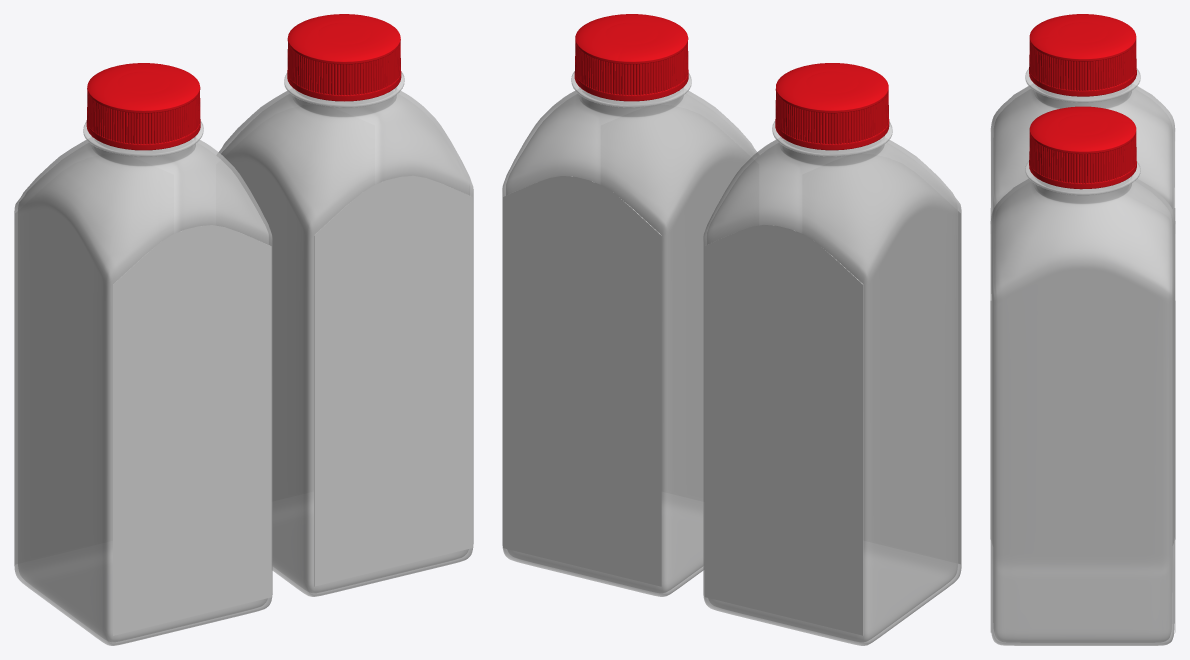
Rendered from Soft Drinks A-1.glb.
3 renders of one model, left to right at view 1: azimuth 30°, elevation 25°; view 2: azimuth 150°, elevation 25°; view 3: azimuth 270°, elevation 25°, orthographic. The views are drawn at different scales.
Parts seen in each view (by area): view 1: Bottle_BottlePlastic_0.001, Plane, Plane.002, Bottle_BottlePlastic_0.002, ManiPiece_Bottle2CapArnold_0.001, ManiPiece_Bottle2CapArnold_0, pCube117_Bottle2CapArnold_0, pCube117_Bottle2CapArnold_0.001; view 2: Plane, Bottle_BottlePlastic_0.001, Plane.002, Bottle_BottlePlastic_0.002, ManiPiece_Bottle2CapArnold_0, ManiPiece_Bottle2CapArnold_0.001, pCube117_Bottle2CapArnold_0.001, pCube117_Bottle2CapArnold_0; view 3: Bottle_BottlePlastic_0.002, Bottle_BottlePlastic_0.001, ManiPiece_Bottle2CapArnold_0, ManiPiece_Bottle2CapArnold_0.001, pCube117_Bottle2CapArnold_0, pCube117_Bottle2CapArnold_0.001, Plane.002, Plane.
Part boxes in pixels (bbox=[...]): Bottle_BottlePlastic_0.001: bbox=[14, 121, 272, 645]; Plane: bbox=[16, 212, 271, 635]; Plane.002: bbox=[314, 175, 472, 586]; Bottle_BottlePlastic_0.002: bbox=[217, 71, 473, 596]; ManiPiece_Bottle2CapArnold_0.001: bbox=[287, 14, 401, 101]; ManiPiece_Bottle2CapArnold_0: bbox=[86, 63, 200, 150]; pCube117_Bottle2CapArnold_0: bbox=[87, 91, 200, 144]; pCube117_Bottle2CapArnold_0.001: bbox=[287, 42, 400, 95]; Plane: bbox=[704, 211, 960, 635]; Bottle_BottlePlastic_0.001: bbox=[703, 121, 961, 645]; Plane.002: bbox=[503, 176, 661, 586]; Bottle_BottlePlastic_0.002: bbox=[502, 71, 758, 596]; ManiPiece_Bottle2CapArnold_0: bbox=[775, 63, 889, 150]; ManiPiece_Bottle2CapArnold_0.001: bbox=[574, 14, 688, 101]; pCube117_Bottle2CapArnold_0.001: bbox=[575, 43, 688, 95]; pCube117_Bottle2CapArnold_0: bbox=[775, 92, 888, 144]; Bottle_BottlePlastic_0.002: bbox=[991, 161, 1174, 645]; Bottle_BottlePlastic_0.001: bbox=[991, 68, 1174, 543]; ManiPiece_Bottle2CapArnold_0: bbox=[1029, 14, 1136, 96]; ManiPiece_Bottle2CapArnold_0.001: bbox=[1029, 106, 1136, 189]; pCube117_Bottle2CapArnold_0: bbox=[1029, 41, 1136, 90]; pCube117_Bottle2CapArnold_0.001: bbox=[1029, 134, 1136, 183]; Plane.002: bbox=[990, 221, 1175, 632]; Plane: bbox=[990, 128, 1175, 539].
Size of the model in its own units: 3.88 by 5.16 by 1.78.
